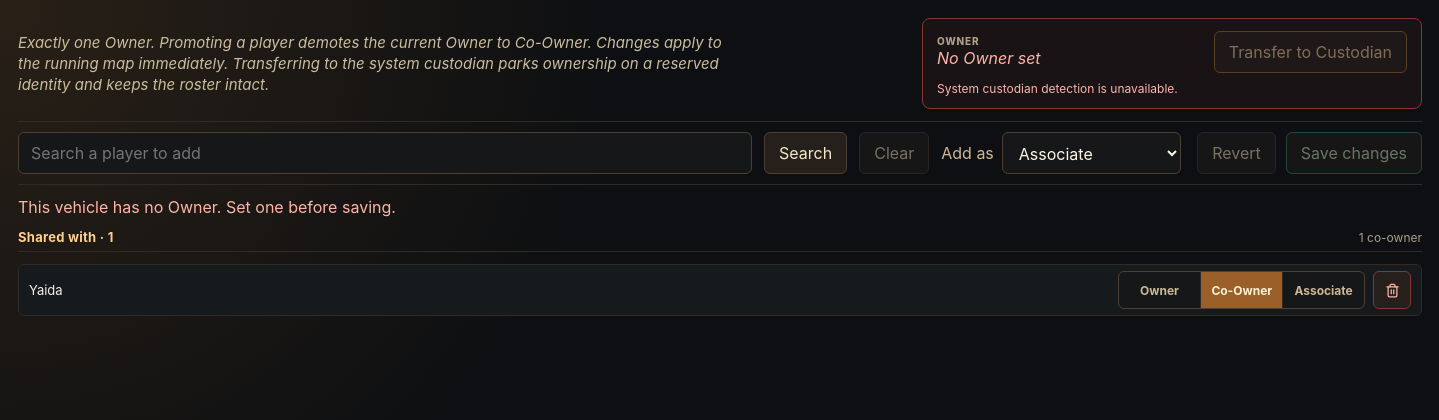
Test case: VehiclePermissionsTab ownerless state › flags a vehicle with no Owner and refuses to save it
Expected: the text "No Owner set" is shown, x1=937 y1=48 x2=1041 y2=68
Expected: the message shows "This vehicle has no Owner.", x1=18 y1=197 x2=396 y2=217
What coordinates should you click on to do the following:
click the radio button with aria-label "Associate for Yaida"
I would click on:
 (1323, 291)
Its box is x1=1282 y1=272 x2=1364 y2=310.
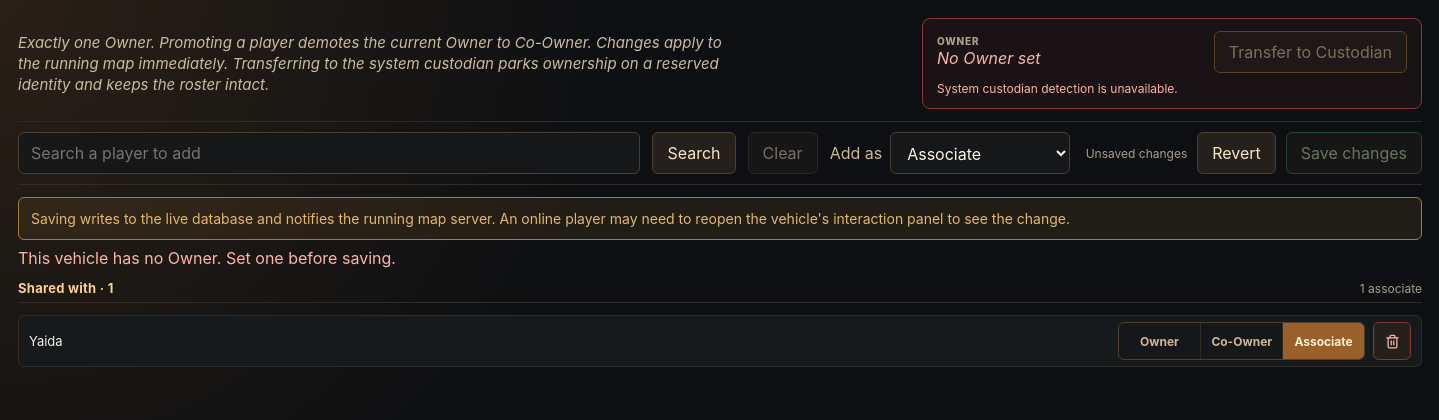
Expected: the button "Save changes" is disabled, x1=1286 y1=132 x2=1422 y2=174
Now the button "Revert" is enabled, box x1=1197 y1=132 x2=1276 y2=174
